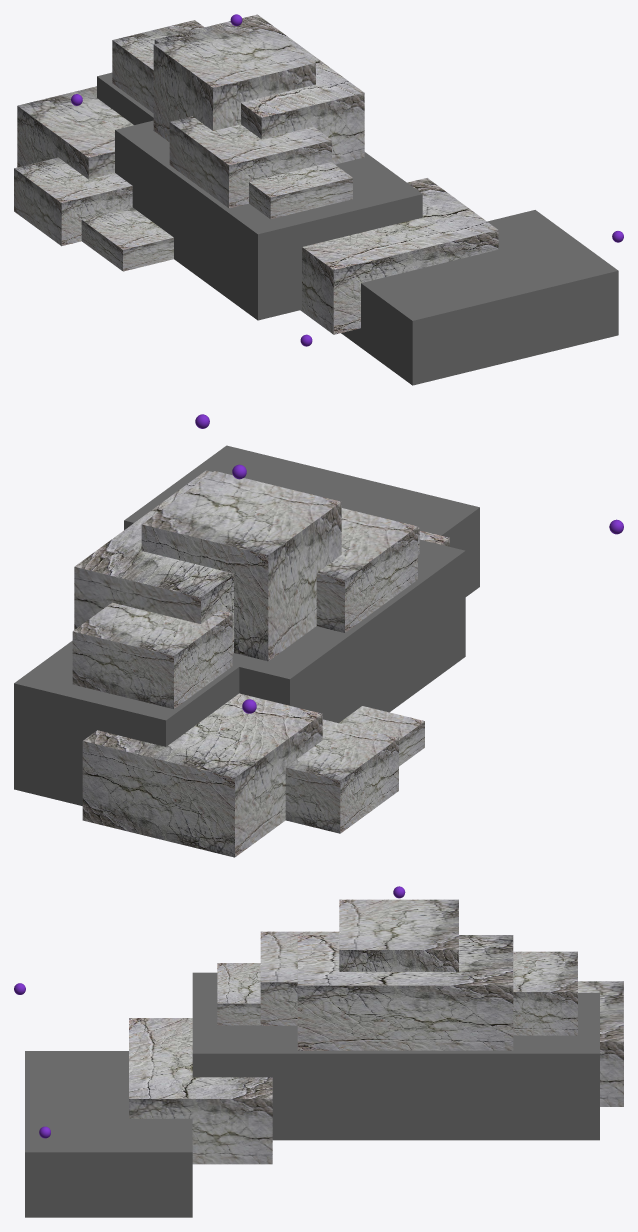
Rendered from Section_1C_3_Exterior_1.fbx.
3 renders of one model, top to bottom at view 1: azimuth 30°, elevation 25°; view 2: azimuth 150°, elevation 25°; view 3: azimuth 270°, elevation 25°, orthographic. The views are drawn at different scales.
Visible parts, largest first — view 1: Cube__12_, Cube__29_, Cube__34_, Cube__33_, Cube__36_, Cube__35_, Cube__40_, Cube__41_, Cube__42_, Cube__37_, Cube__38_, Cube__30_; view 2: Cube__40_, Cube__33_, Cube__29_, Cube__30_, Cube__38_, Cube__35_, Cube__12_, Cube__41_, Cube__36_, Cube__42_; view 3: Cube__29_, Cube__12_, Cube__35_, Cube__34_, Cube__30_, Cube__33_, Cube__38_, Cube__36_, Cube__40_, Cube__37_.
Boxes of the visible parts, bbox=[...] form: Cube__12_: bbox=[341, 210, 618, 385]; Cube__29_: bbox=[115, 120, 422, 320]; Cube__34_: bbox=[300, 178, 498, 334]; Cube__33_: bbox=[153, 19, 315, 141]; Cube__36_: bbox=[169, 116, 331, 208]; Cube__35_: bbox=[154, 14, 364, 164]; Cube__40_: bbox=[17, 86, 133, 179]; Cube__41_: bbox=[14, 157, 132, 246]; Cube__42_: bbox=[81, 207, 173, 271]; Cube__37_: bbox=[249, 162, 352, 219]; Cube__38_: bbox=[112, 20, 204, 112]; Cube__30_: bbox=[97, 72, 153, 124]; Cube__40_: bbox=[82, 693, 322, 857]; Cube__33_: bbox=[141, 471, 341, 661]; Cube__29_: bbox=[232, 539, 465, 722]; Cube__30_: bbox=[14, 640, 239, 805]; Cube__38_: bbox=[72, 602, 232, 708]; Cube__35_: bbox=[74, 470, 233, 653]; Cube__12_: bbox=[124, 445, 479, 596]; Cube__41_: bbox=[285, 719, 398, 833]; Cube__36_: bbox=[316, 508, 417, 632]; Cube__42_: bbox=[339, 706, 424, 766]; Cube__29_: bbox=[192, 972, 480, 1140]; Cube__12_: bbox=[25, 1051, 192, 1217]; Cube__35_: bbox=[297, 935, 513, 1050]; Cube__34_: bbox=[129, 1018, 272, 1164]; Cube__30_: bbox=[480, 993, 599, 1140]; Cube__33_: bbox=[339, 899, 458, 971]; Cube__38_: bbox=[513, 951, 577, 1035]; Cube__36_: bbox=[260, 931, 339, 1025]; Cube__40_: bbox=[578, 981, 623, 1106]; Cube__37_: bbox=[217, 963, 260, 1025].
Bounding box in the file's own units: 1763 × 1078 × 2546.
